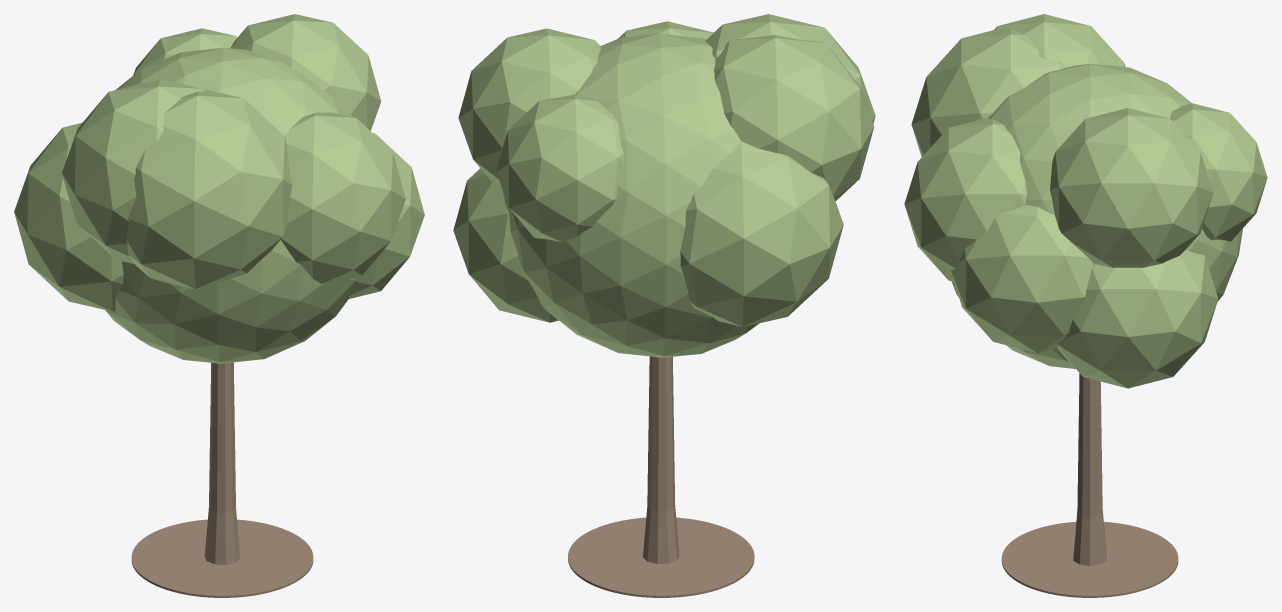
File: tree_b.glb
The picture shows the model from 3 angles, left to right: view 1: azimuth 30°, elevation 25°; view 2: azimuth 150°, elevation 25°; view 3: azimuth 270°, elevation 25°; orthographic projection. The views are drawn at different scales.
Visible parts, largest first — view 1: tree_b_leaf2, tree_b_mulch, tree_b_bark; view 2: tree_b_leaf2, tree_b_mulch, tree_b_bark; view 3: tree_b_leaf2, tree_b_mulch, tree_b_bark.
Boxes of the visible parts, x1,y1,x2,y2 form: tree_b_leaf2: (14, 14, 424, 363); tree_b_mulch: (131, 519, 313, 597); tree_b_bark: (204, 362, 240, 564); tree_b_leaf2: (453, 14, 875, 357); tree_b_mulch: (568, 517, 754, 597); tree_b_bark: (643, 356, 679, 563); tree_b_leaf2: (904, 14, 1267, 388); tree_b_mulch: (1001, 521, 1178, 597); tree_b_bark: (1073, 373, 1106, 565).
Bounding box in the file's own units: 3.56 × 4.96 × 3.29.
